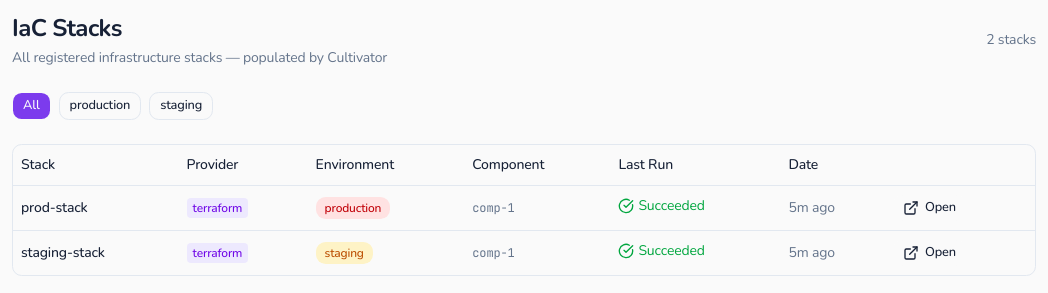
Test case: IacStacksListClient › filters stacks by environment when a filter chip is clicked
Click the button "staging" at (181, 106), box [149,92,213,120]
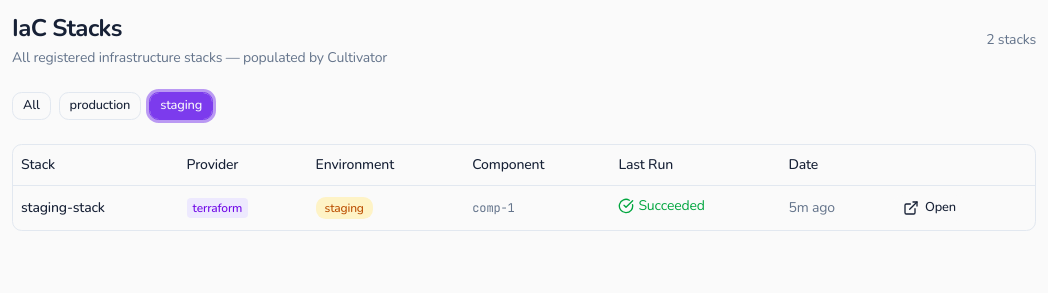
Expected: the link "staging-stack" is shown, [21,198,105,216]
Expected: the link "prod-stack" is gone
